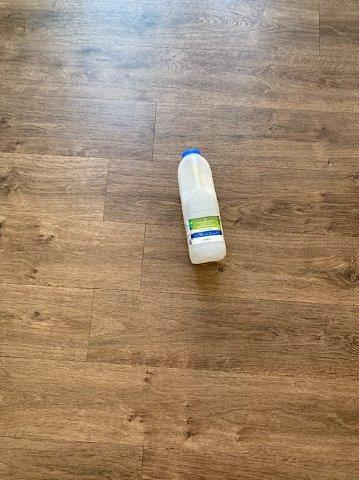botolplastik: (178, 149, 226, 263)
